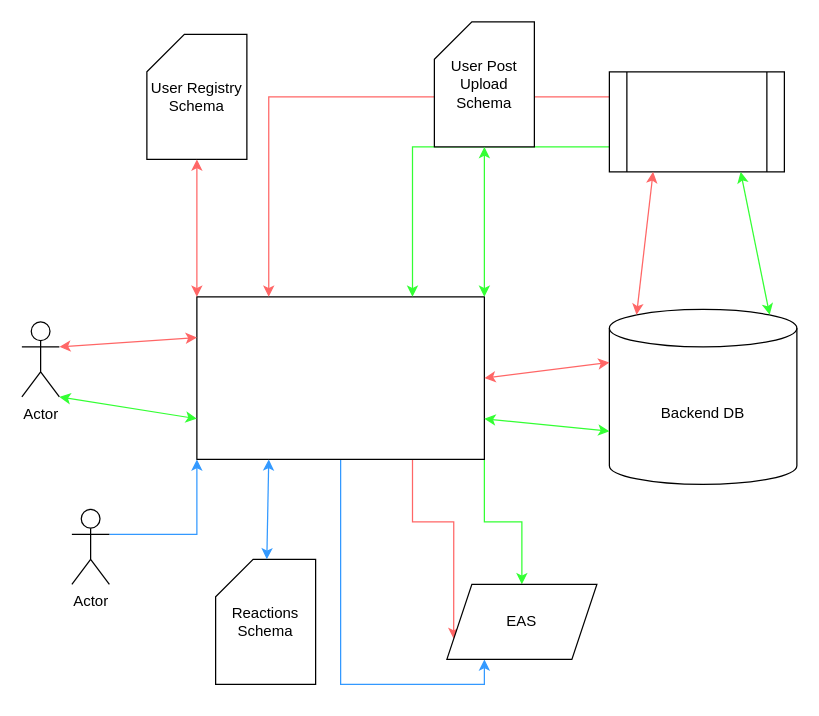
The diagram is 819 pixels wide and 716 high, and some of its shapes have lost their labels. Each missing label, with the box of its shape:
Admin Panel: (608, 71, 784, 172)
DX Frontend: (196, 296, 484, 459)
